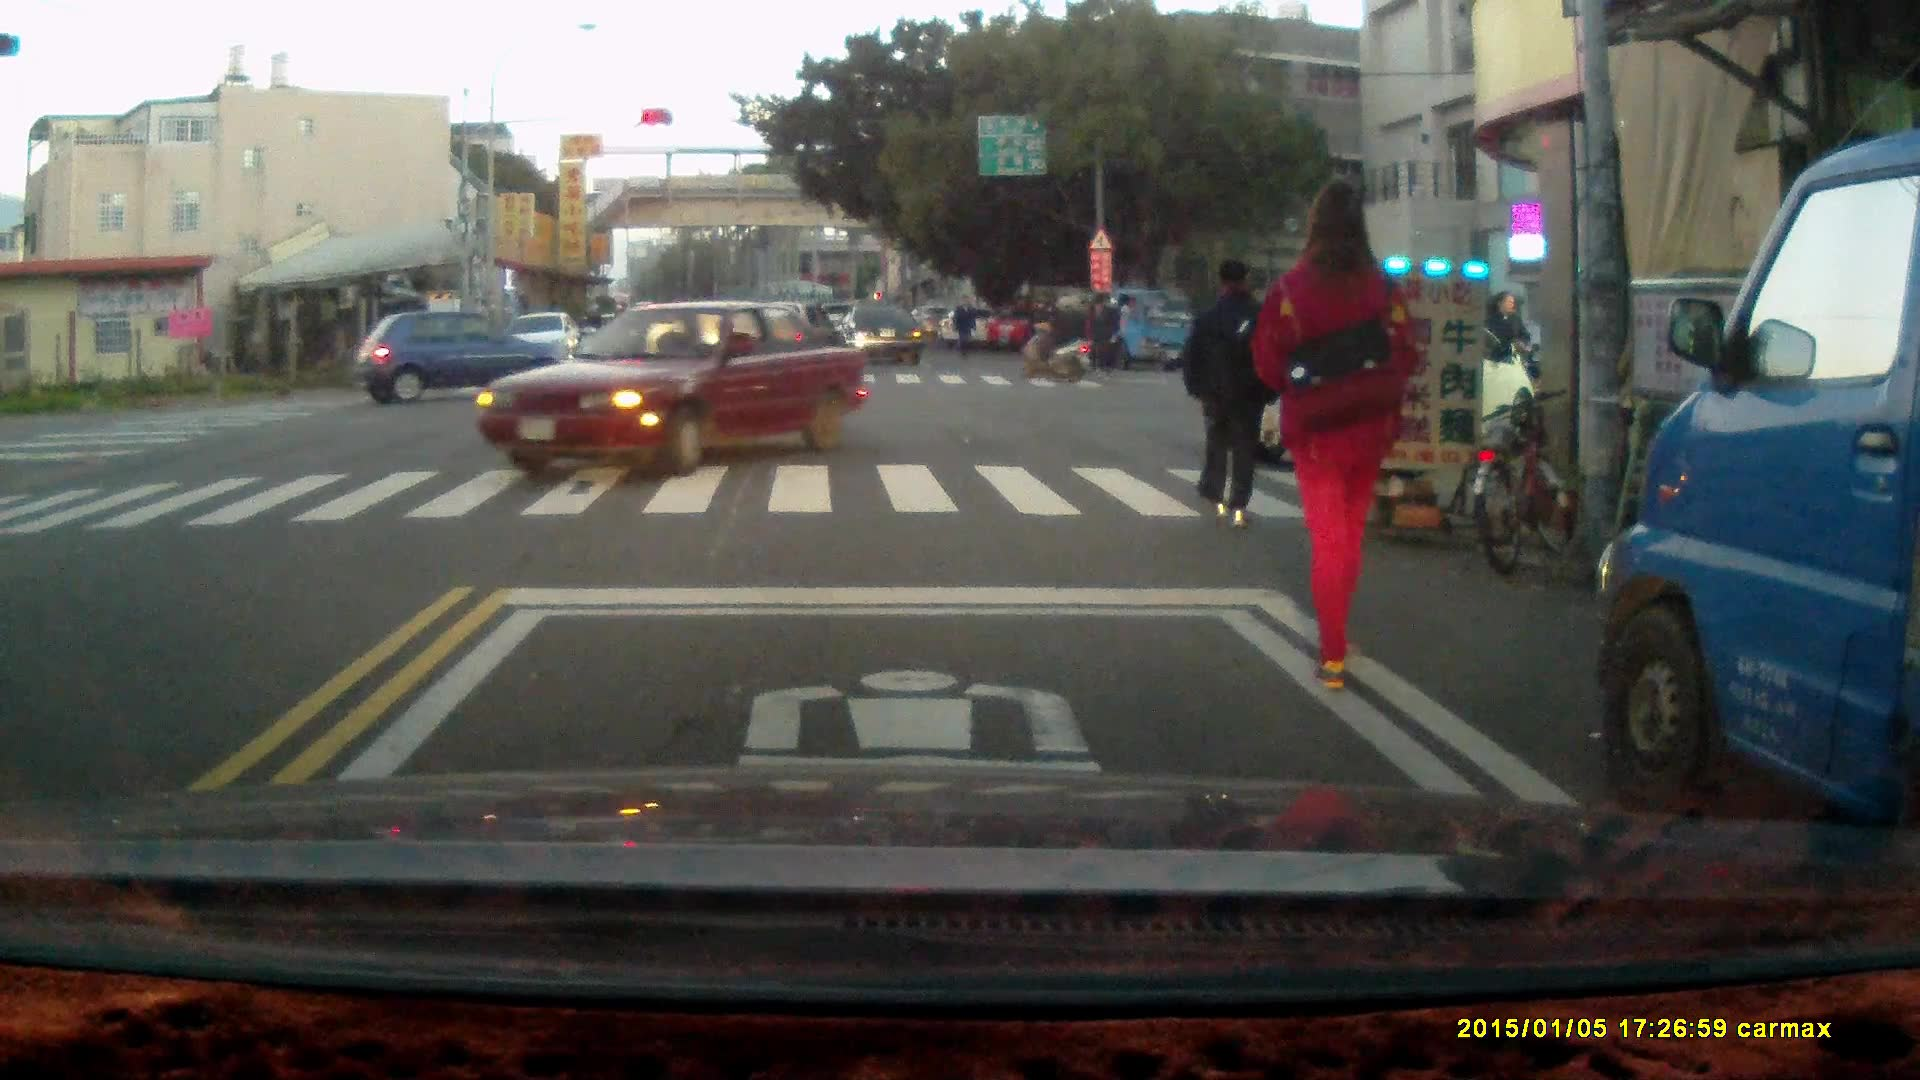pedestrian: (1259, 177, 1421, 686), (1175, 255, 1284, 529), (1484, 290, 1532, 416), (1082, 293, 1108, 367), (952, 293, 975, 363)
rider: (1020, 294, 1088, 383), (575, 302, 607, 369)
vehicle: (1598, 132, 1920, 865), (474, 303, 882, 476), (1233, 296, 1533, 459), (357, 313, 576, 404), (1002, 284, 1203, 367), (833, 300, 932, 367)
